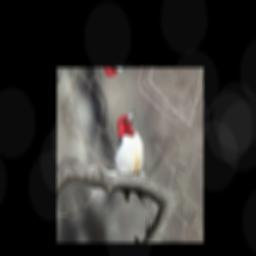Woodpecker: (105, 108, 158, 219)
